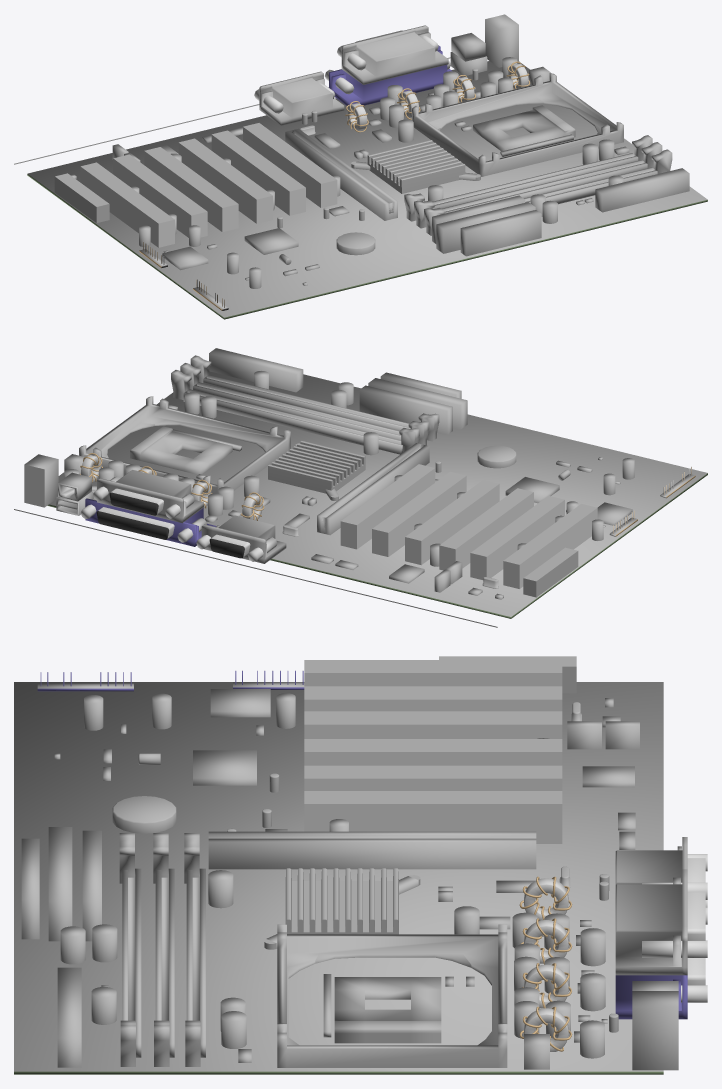
File: motherboard.fbx
3 views of the same model, one above another, from view 1: azimuth 30°, elevation 25°; view 2: azimuth 150°, elevation 25°; view 3: azimuth 270°, elevation 25° (orthographic). The views are drawn at different scales.
Parts seen in each view (by area): view 1: mainboard; view 2: mainboard; view 3: mainboard.
Part boxes in pixels (x1=…): mainboard: x1=14, y1=14, x2=707, y2=319; mainboard: x1=14, y1=348, x2=707, y2=627; mainboard: x1=14, y1=656, x2=707, y2=1074.
Size of the model in its own units: 2.5 by 0.238 by 1.88.
